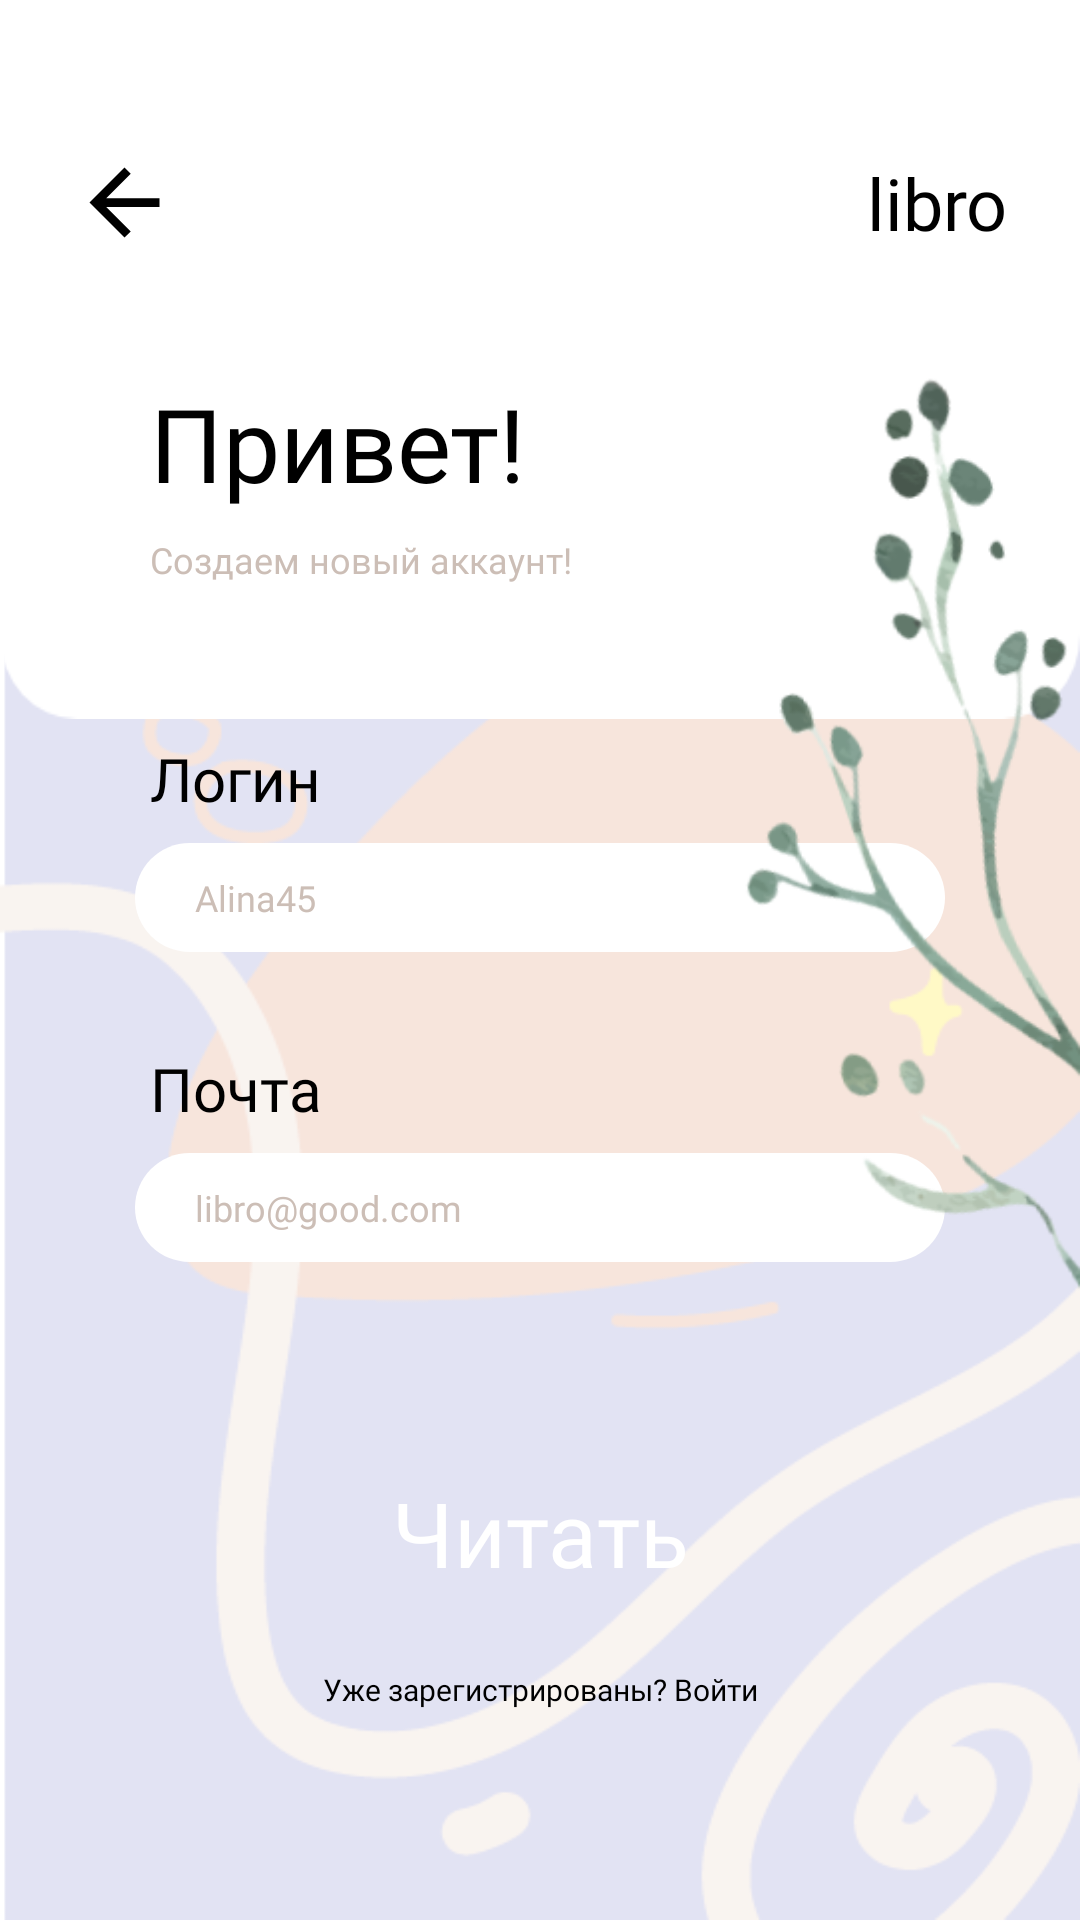

Where to tap for icons on this 1080px x 1920px app screen, as [x,y]:
arrow: [124,202]
